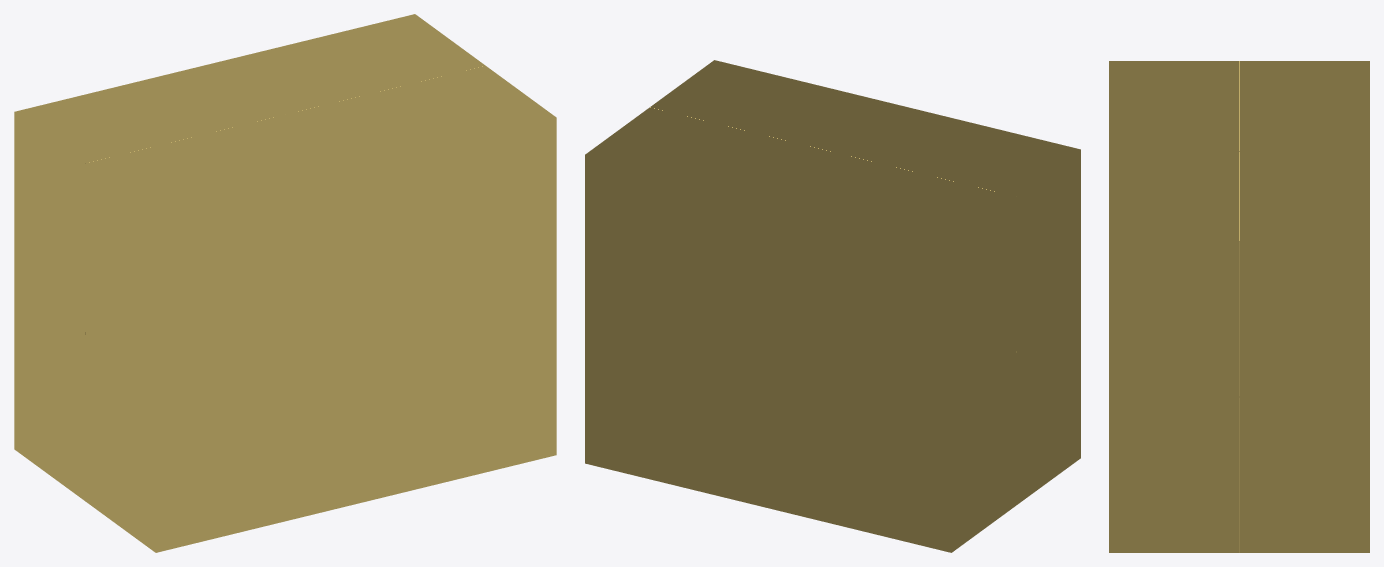
The model's file is prop_generator_diesel_a.glb.
3 views of the same model, side by side, from view 1: azimuth 30°, elevation 25°; view 2: azimuth 150°, elevation 25°; view 3: azimuth 270°, elevation 25° (orthographic). The views are drawn at different scales.
Visible parts, largest first — view 1: prop_generator_diesel_a; view 2: prop_generator_diesel_a; view 3: prop_generator_diesel_a.
Boxes of the visible parts, <box> form: prop_generator_diesel_a: <box>14,14,556,552</box>; prop_generator_diesel_a: <box>585,60,1080,552</box>; prop_generator_diesel_a: <box>1109,61,1369,552</box>.
Bounding box in the file's own units: 1.8 × 1.77 × 1.1.
